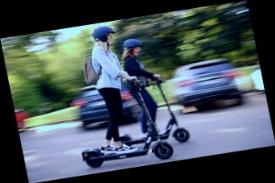helmet: (56, 19, 177, 172), (96, 33, 193, 153)
